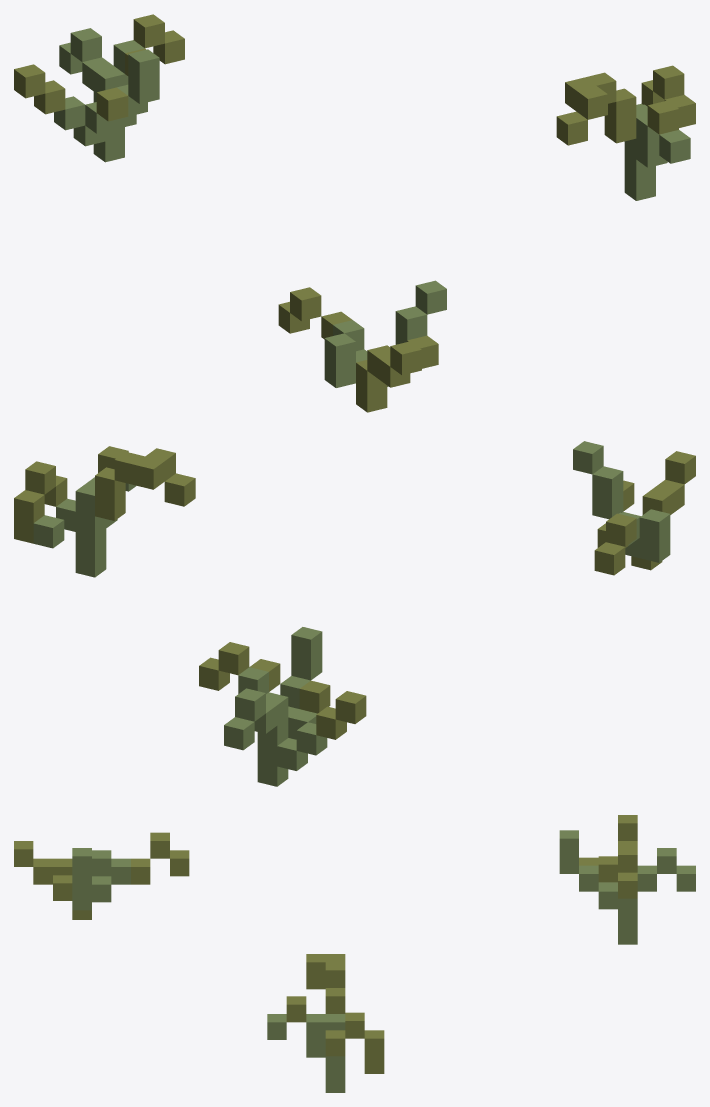
The model's file is lvl3-10.obj.
The picture shows the model from 3 angles, top to bottom: view 1: azimuth 30°, elevation 25°; view 2: azimuth 150°, elevation 25°; view 3: azimuth 270°, elevation 25°; orthographic projection. The views are drawn at different scales.
Bounding box in the file's own units: 2.5 × 0.6 × 3.5.
1 material, 1 textured.
